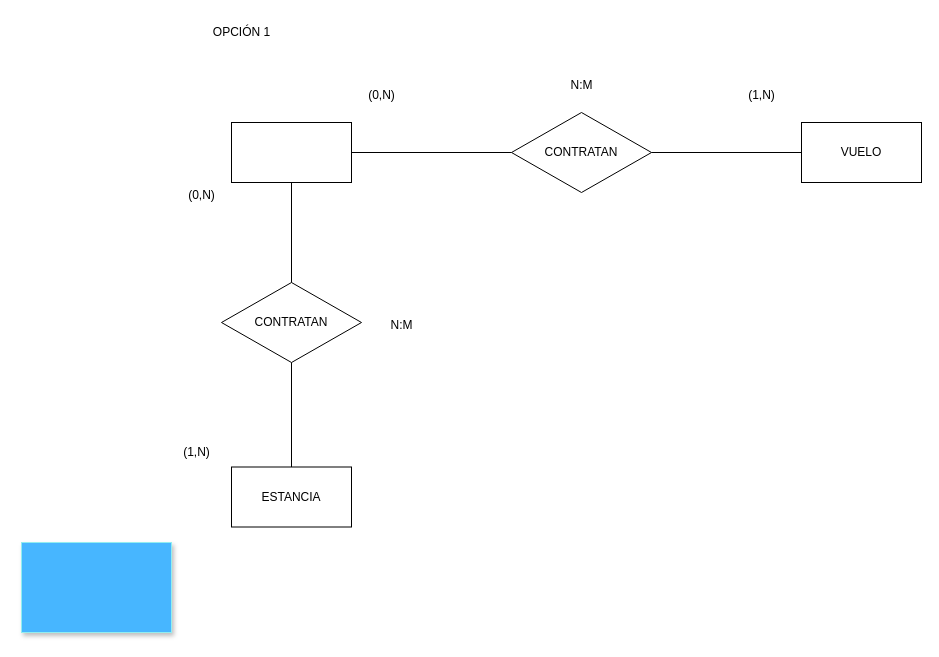
Image size: 939x657. Some labels were removed from this diagram. The shapes that lost their labels are listed below. From the top down, each one's centre as x and y in pixels, then its label:
At (x=291, y=152): "CLIENTE".
At (x=97, y=589): "Vamos a suponer que el cliente siempre contratara al menos una estancia".
